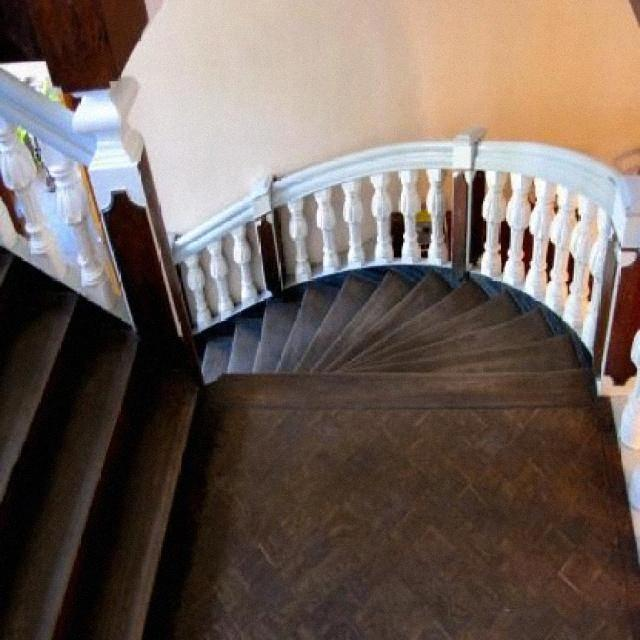stair: (0, 244, 201, 640), (201, 266, 594, 391)
